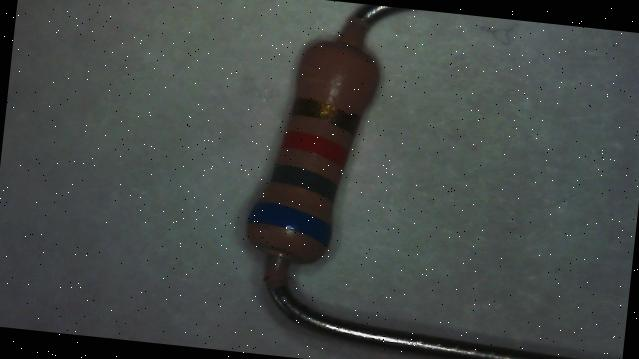blue: (246, 199, 332, 246)
gold: (289, 97, 360, 134)
grey: (268, 163, 338, 201)
orange: (281, 130, 349, 167)
resistor: (234, 19, 419, 304)
